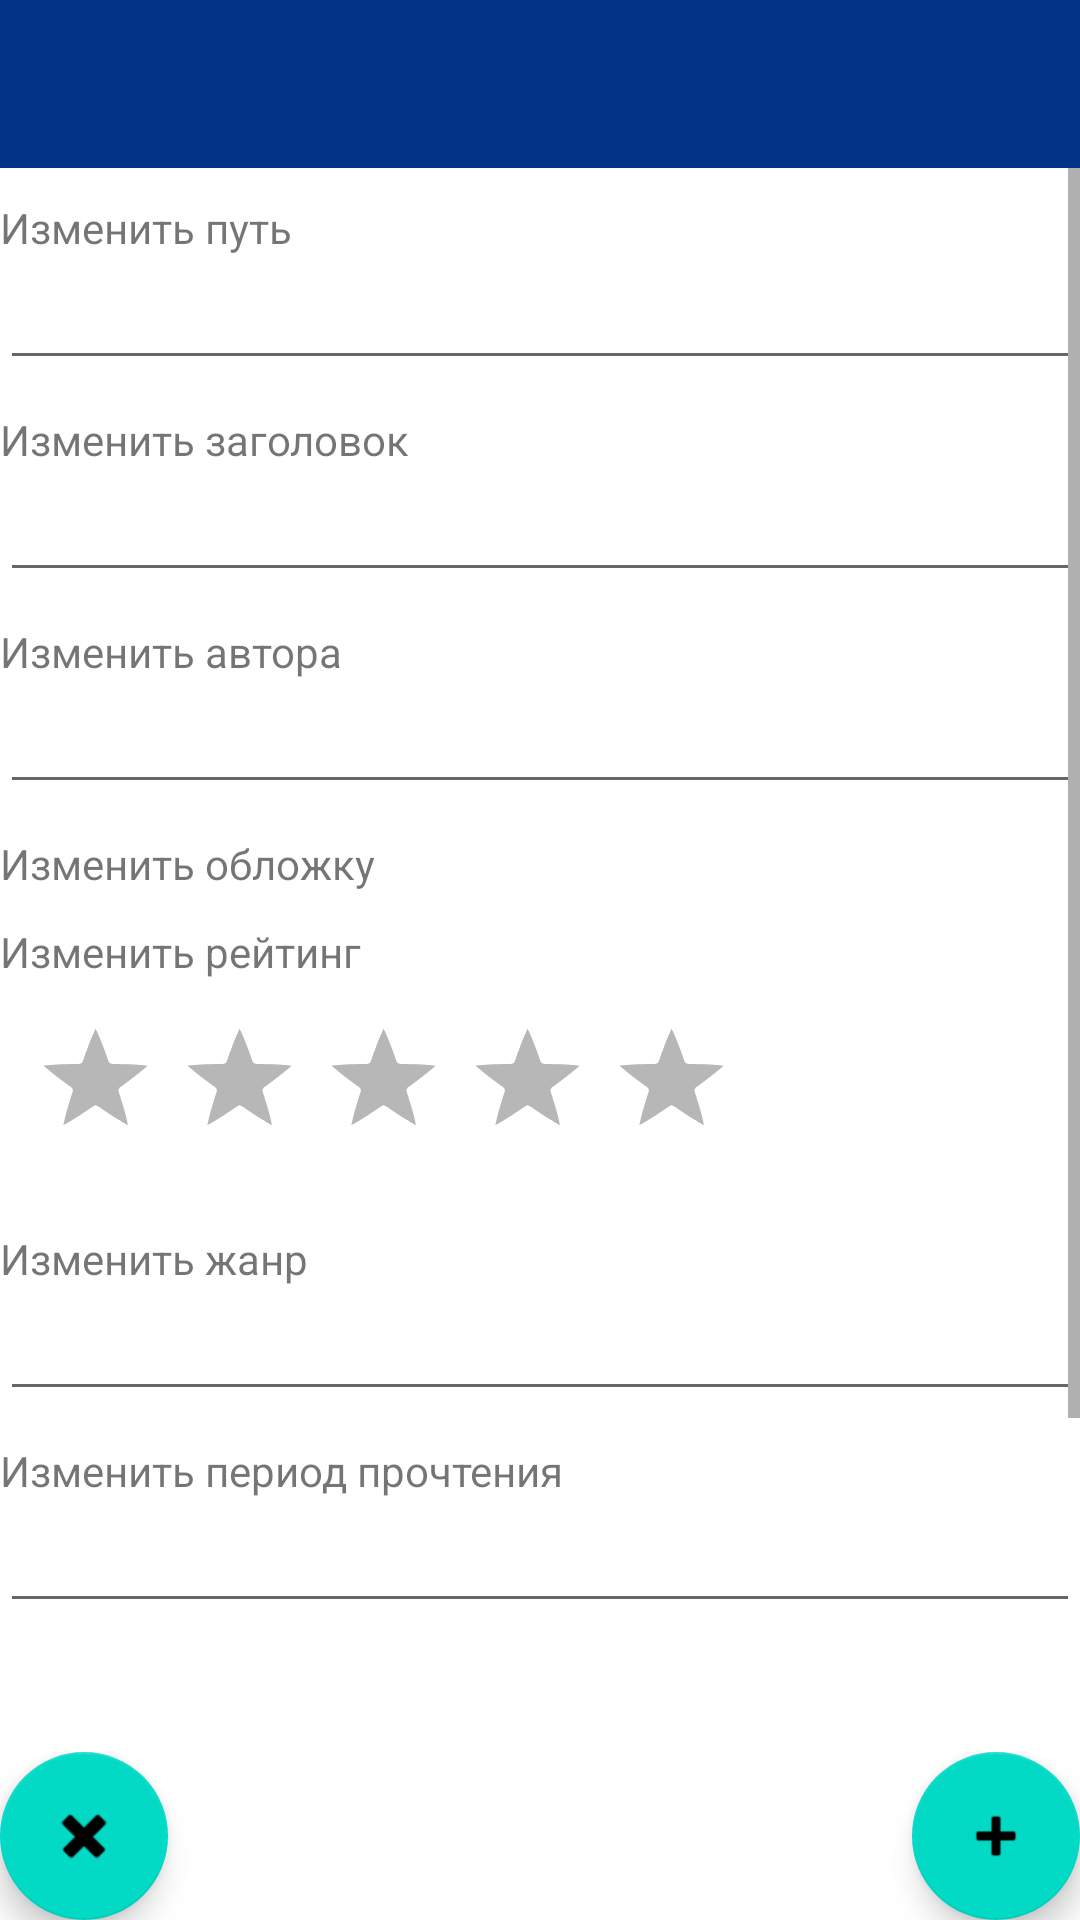

Where to tap for icons on this 1080*1920 app screen, as point (x, y):
add: point (996, 1836)
delete: point (84, 1836)
